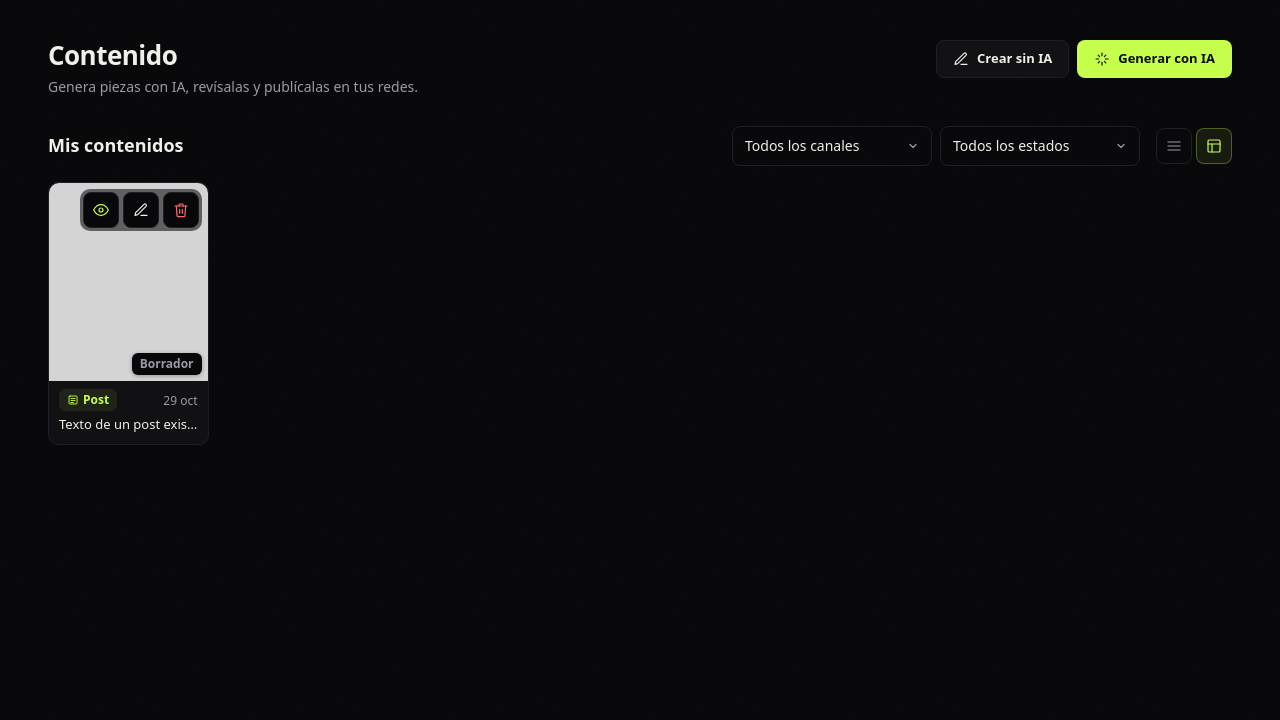
Scenario: Mis contenidos — formulario de generación › con contenido empieza cerrado; «Generar con IA» lo abre y ocultarlo no borra lo escrito
This screenshot has width=1280, height=720.
Expected: the field labelled "Tema" is not shown
Click the button "Generar con IA". click: (1155, 59)
box: [1077,40,1232,78]
(page scrolled)
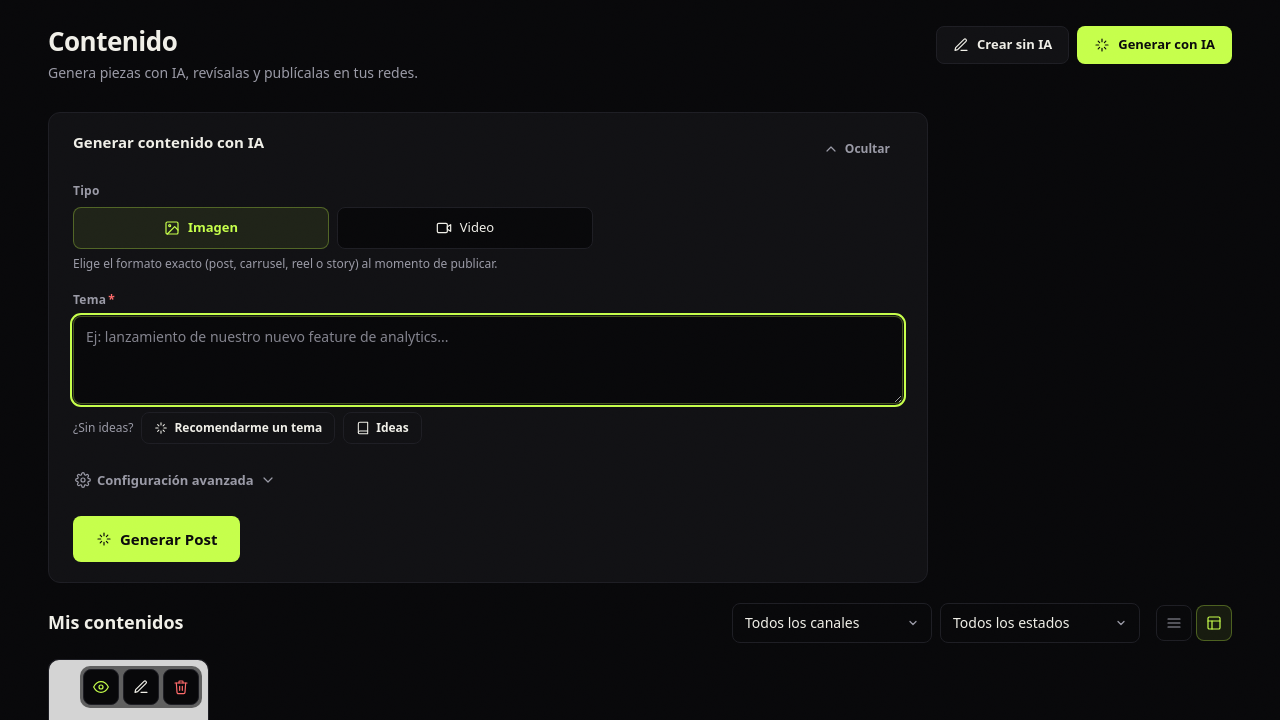
Type "Mi tema a medio escribir" into the text box labelled "Tema*". click: (488, 360)
box: [73,316,903,404]
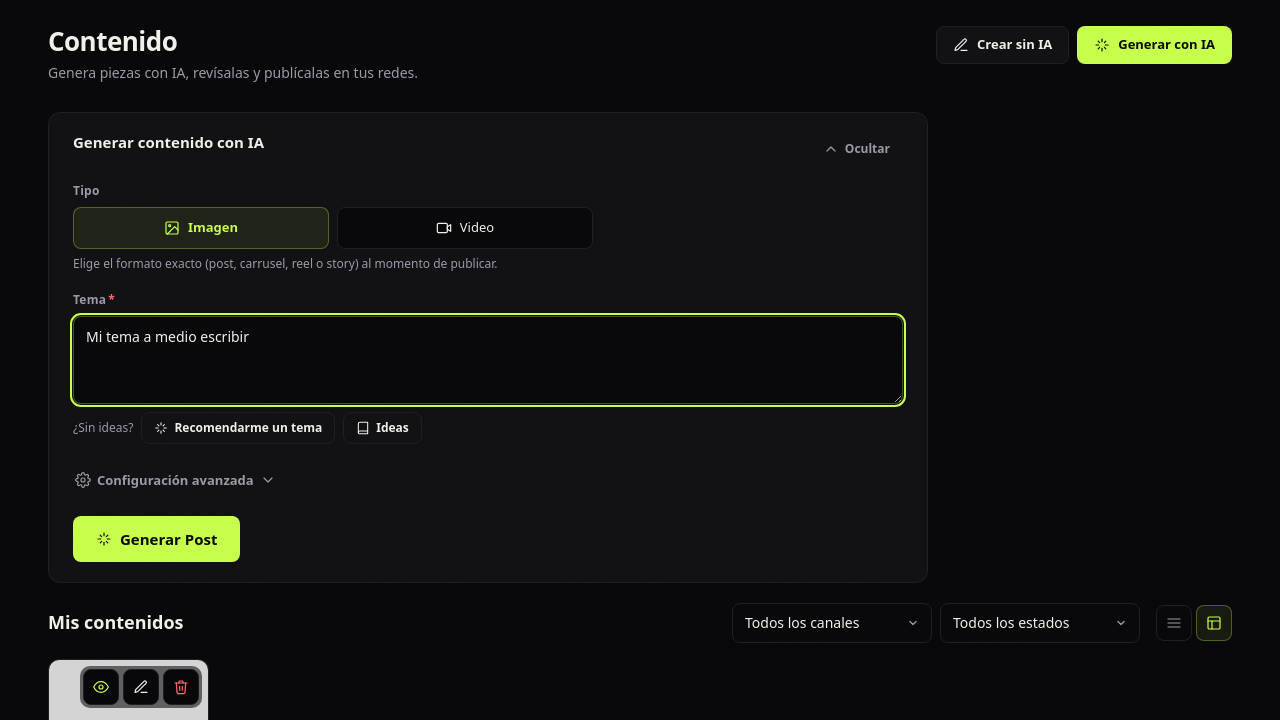
// Ya no hay «Cancelar» que borra: el botón solo oculta.
Click the button with aria-label "Ocultar el formulario". click: (856, 149)
box: [810,133,903,165]
(page scrolled)
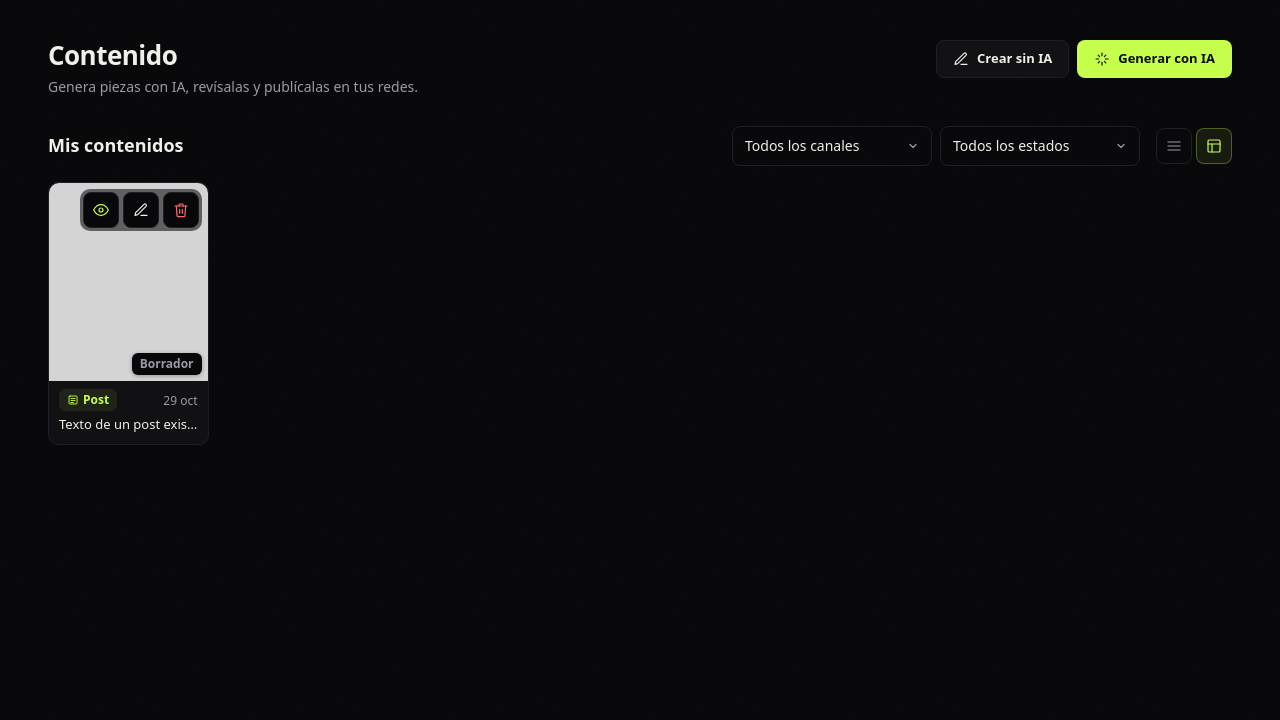
Expected: the label "Tema" is gone
Click the button "Generar con IA". click: (1155, 59)
box: [1077,40,1232,78]
(page scrolled)
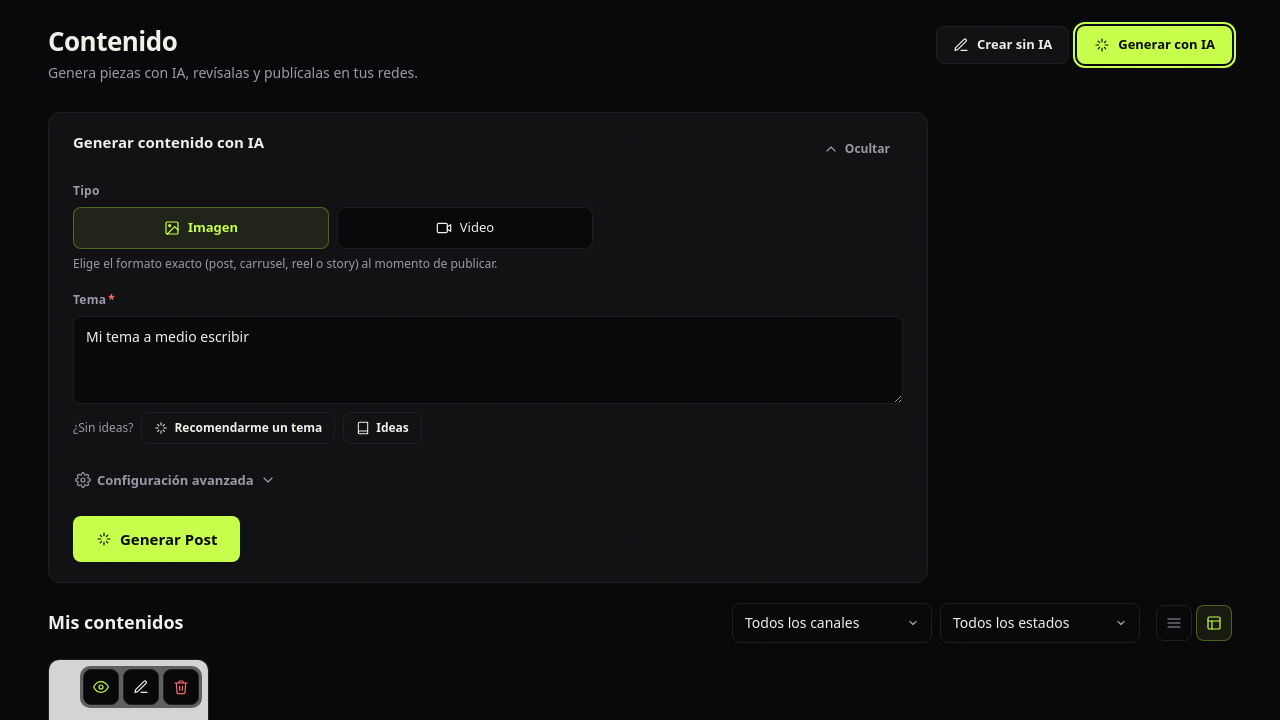
Expected: the text box labelled "Tema*" holds "Mi tema a medio escribir", [73,316,903,404]
